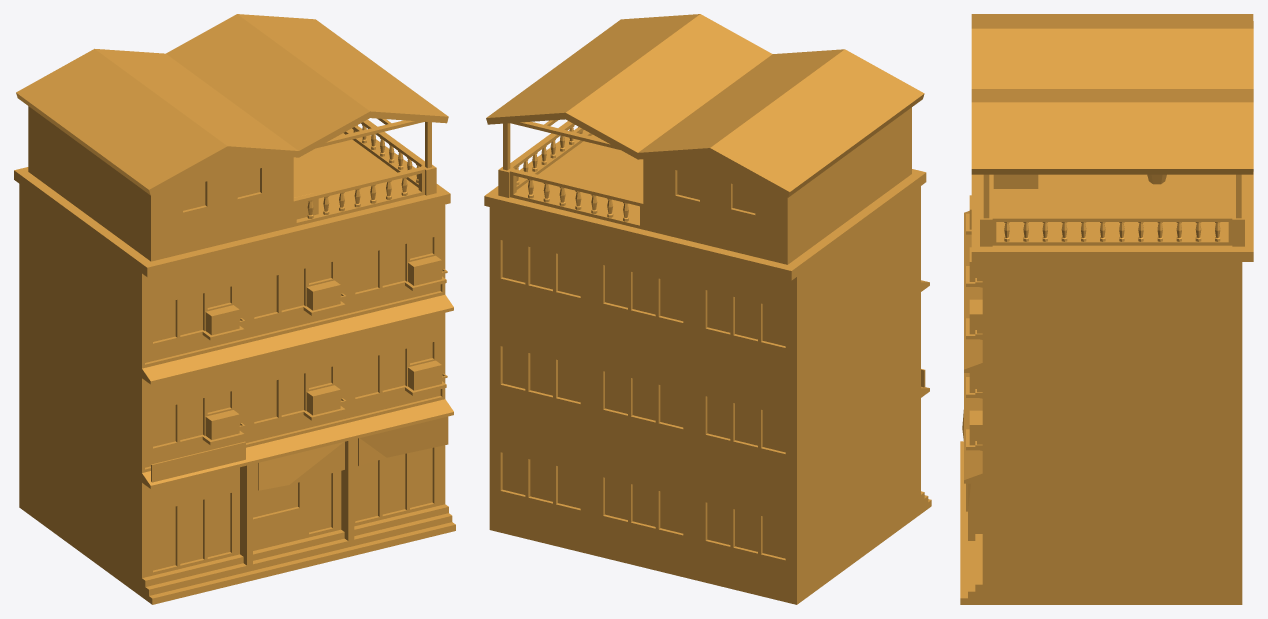
Rendered from building-street-india.fbx.
The picture shows the model from 3 angles, left to right: view 1: azimuth 30°, elevation 25°; view 2: azimuth 150°, elevation 25°; view 3: azimuth 270°, elevation 25°; orthographic projection. The views are drawn at different scales.
Visible parts, largest first — view 1: building-street-india; view 2: building-street-india; view 3: building-street-india.
Boxes of the visible parts, x1=… form: building-street-india: x1=14, y1=14, x2=455, y2=604; building-street-india: x1=484, y1=14, x2=931, y2=604; building-street-india: x1=960, y1=14, x2=1253, y2=604.
Bounding box in the file's own units: 10 × 13.71 × 7.9.
